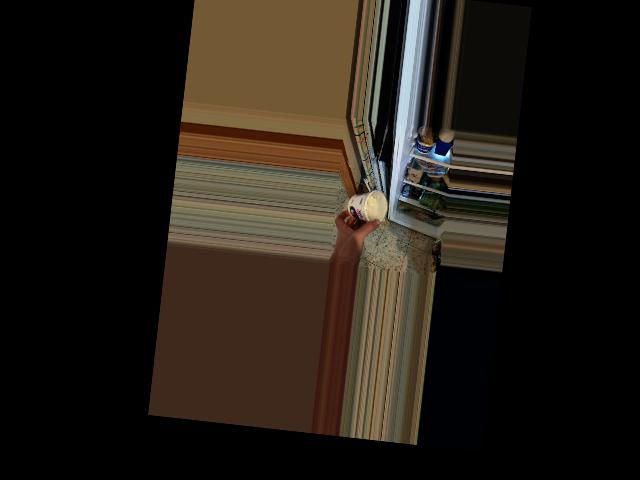cotage: (343, 187, 388, 228)
